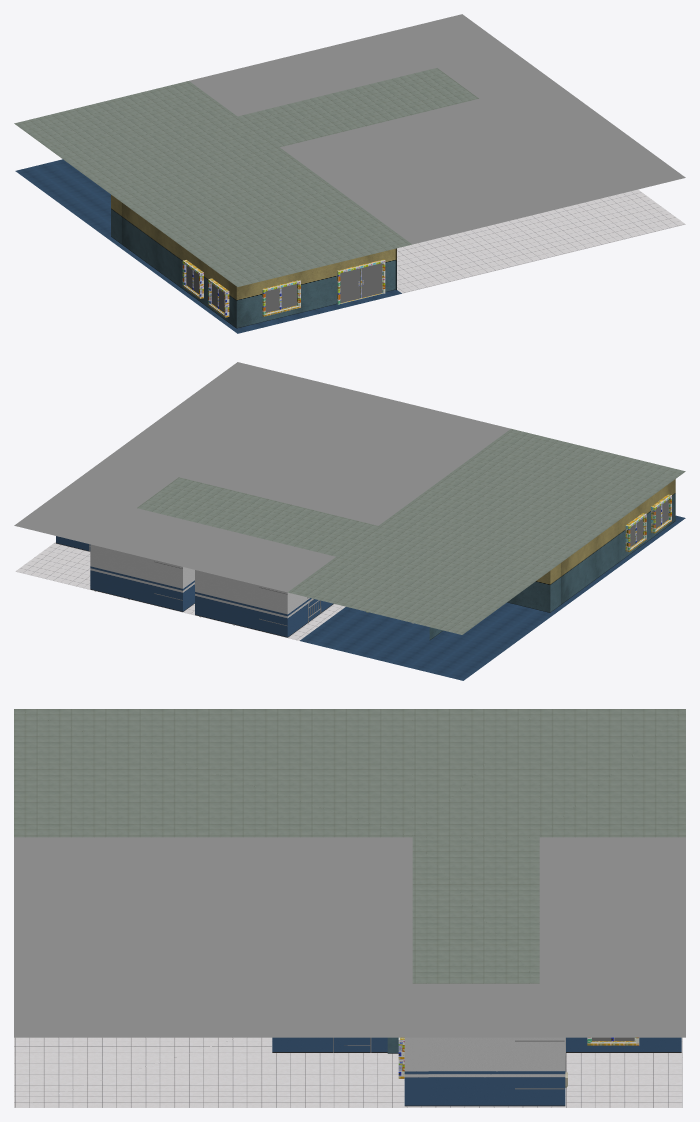
3 views of the same model, one above another, from view 1: azimuth 30°, elevation 25°; view 2: azimuth 150°, elevation 25°; view 3: azimuth 270°, elevation 25° (orthographic). The views are drawn at different scales.
Visible parts, largest first — view 1: tianhuaban, di, Box007, Box004, men_r, men_l; view 2: tianhuaban, di, Box008, Box007, Box004; view 3: tianhuaban, di, Box008.
Boxes of the visible parts, box(x1,y1,x2,y2) form: tianhuaban: box(14, 14, 685, 286); di: box(15, 159, 685, 333); Box007: box(111, 195, 396, 328); Box004: box(182, 260, 229, 317); men_r: box(340, 268, 361, 303); men_l: box(361, 263, 382, 297); tianhuaban: box(14, 362, 685, 634); di: box(15, 515, 685, 680); Box008: box(56, 536, 333, 637); Box007: box(366, 479, 675, 640); Box004: box(625, 494, 671, 552); tianhuaban: box(14, 709, 685, 1037); di: box(14, 1037, 682, 1107); Box008: box(272, 1037, 681, 1106).
Bounding box in the file's own units: 3544 × 357 × 3063.
